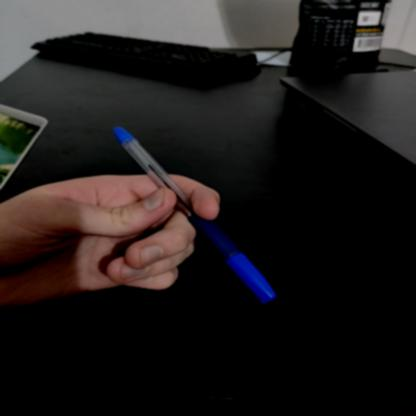Pen: (87, 112, 297, 309)
